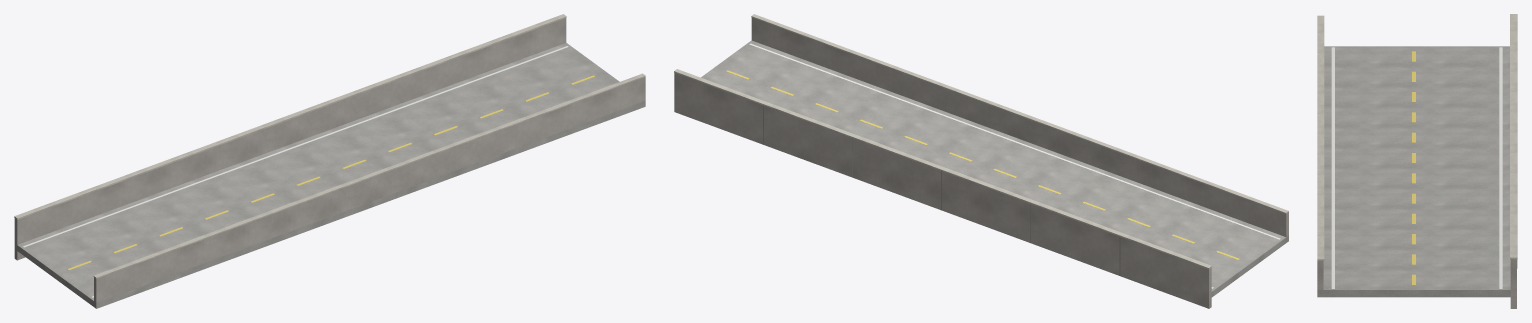
The model's file is ramp.glb.
The picture shows the model from 3 angles, left to right: view 1: azimuth 30°, elevation 25°; view 2: azimuth 150°, elevation 25°; view 3: azimuth 270°, elevation 25°; orthographic projection. The views are drawn at different scales.
Visible parts, largest first — view 1: ramp_conc_s, ramp_concrete, ramp_coping, ramp_paint_w, ramp_paint_y; view 2: ramp_concrete, ramp_conc_s, ramp_coping, ramp_paint_w, ramp_paint_y; view 3: ramp_conc_s, ramp_coping, ramp_paint_w, ramp_concrete, ramp_paint_y.
Part boxes in pixels (<box>): ramp_conc_s: <box>17,42,645,308</box>; ramp_concrete: <box>14,18,645,302</box>; ramp_coping: <box>14,14,645,278</box>; ramp_paint_w: <box>23,46,568,297</box>; ramp_paint_y: <box>67,75,594,270</box>; ramp_concrete: <box>674,17,1288,308</box>; ramp_conc_s: <box>701,40,1288,297</box>; ramp_coping: <box>674,14,1288,269</box>; ramp_paint_w: <box>749,43,1280,288</box>; ramp_paint_y: <box>726,70,1239,259</box>; ramp_conc_s: <box>1317,46,1510,297</box>; ramp_coping: <box>1317,14,1517,260</box>; ramp_paint_w: <box>1331,47,1502,288</box>; ramp_concrete: <box>1317,259,1516,308</box>; ramp_paint_y: <box>1412,51,1415,284</box>.
Size of the model in its own units: 24 by 4.61 by 6.22.
6 materials, 4 textured.
